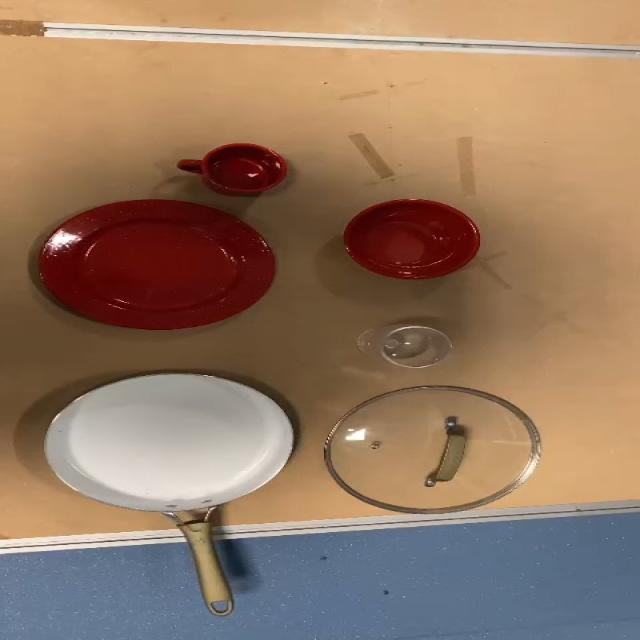Bowl: (338, 196, 480, 283)
Glass: (364, 319, 454, 370)
Plate: (34, 200, 268, 327)
cup: (178, 140, 295, 193)
pot: (45, 372, 300, 620)
